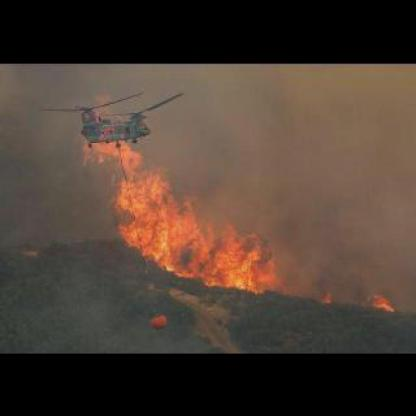fire: (86, 105, 274, 295)
